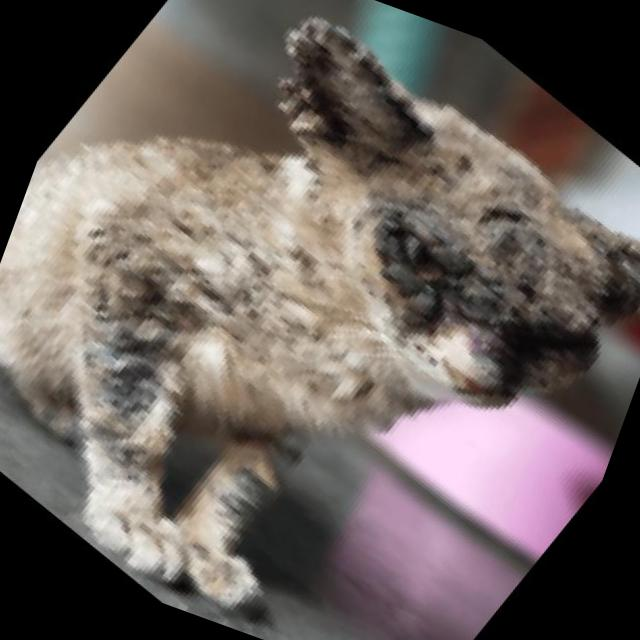Mange: (278, 14, 427, 147), (385, 196, 500, 294), (375, 215, 444, 329), (444, 272, 518, 344), (613, 251, 640, 303)
